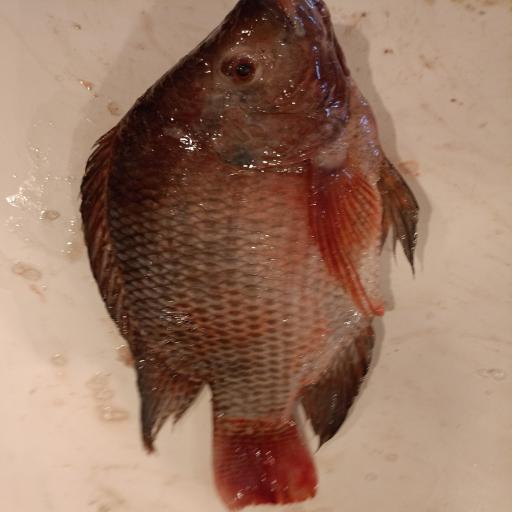Tilapia: (80, 1, 420, 510)
